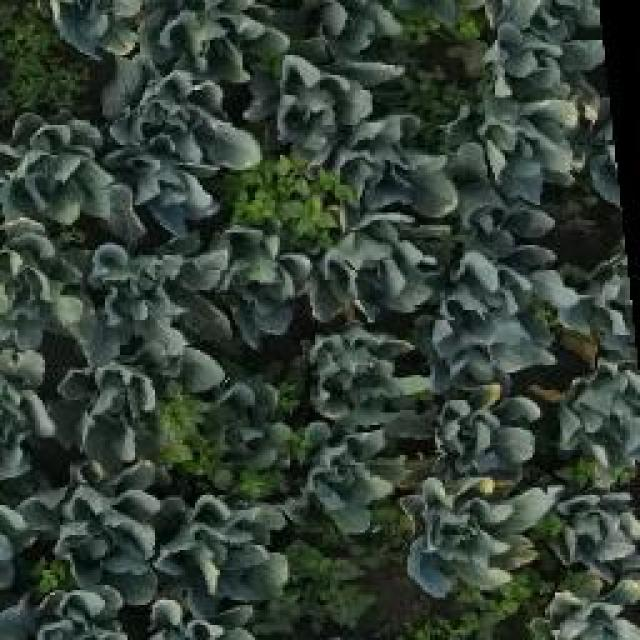cabbage: (102, 61, 255, 170), (55, 244, 191, 364), (318, 200, 430, 318), (205, 227, 308, 353), (8, 130, 115, 248), (465, 79, 573, 192), (409, 479, 529, 580), (268, 52, 366, 167), (171, 505, 273, 612), (436, 263, 534, 374), (433, 381, 546, 470), (54, 373, 158, 468), (559, 356, 640, 476), (44, 502, 150, 593), (352, 124, 437, 236), (306, 325, 404, 416), (147, 0, 249, 87), (286, 437, 384, 527), (461, 0, 564, 80), (208, 373, 290, 465), (565, 566, 640, 640), (458, 188, 532, 260), (568, 488, 638, 564)
